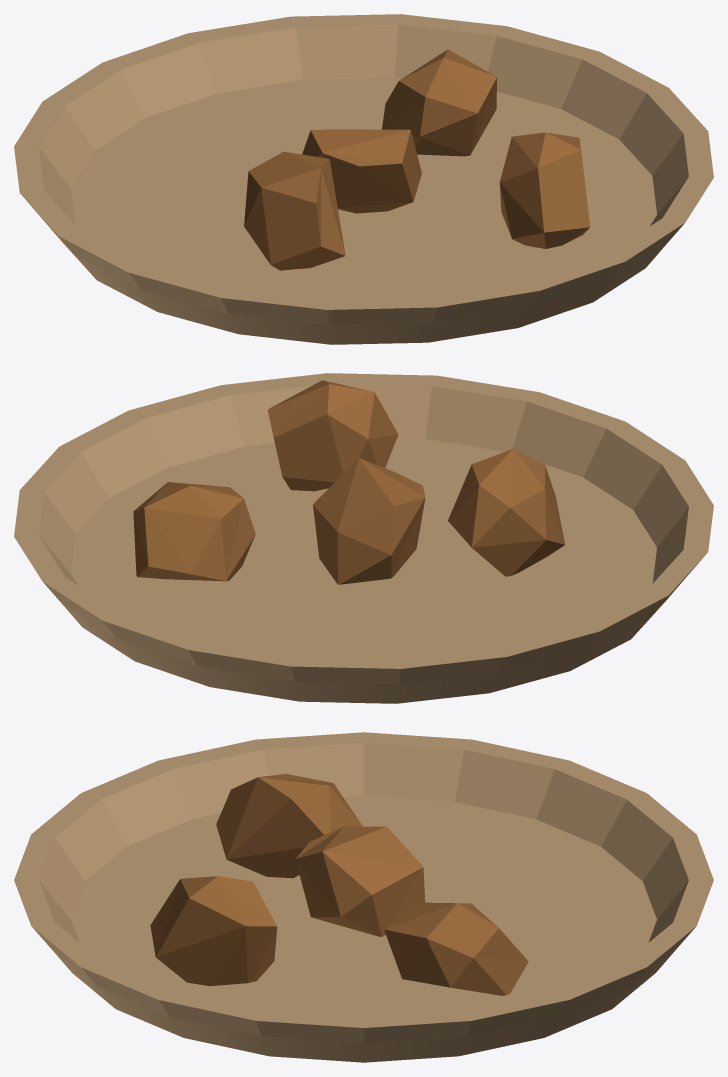
File: Vessel_4.fbx
The picture shows the model from 3 angles, top to bottom: view 1: azimuth 30°, elevation 25°; view 2: azimuth 150°, elevation 25°; view 3: azimuth 270°, elevation 25°; orthographic projection.
Visible parts, largest first — view 1: Saucer, CopperPieceBig2, CopperPieceBig4, CopperPieceBig3, CopperPieceBig1; view 2: Saucer, CopperPieceBig1, CopperPieceBig3, CopperPieceBig2, CopperPieceBig4; view 3: Saucer, CopperPieceBig4, CopperPieceBig1, CopperPieceBig2, CopperPieceBig3.
Part boxes in pixels (x1=…): Saucer: x1=14, y1=14, x2=713, y2=344; CopperPieceBig2: x1=244, y1=151, x2=345, y2=270; CopperPieceBig4: x1=499, y1=132, x2=590, y2=248; CopperPieceBig3: x1=382, y1=49, x2=496, y2=156; CopperPieceBig1: x1=302, y1=129, x2=421, y2=213; Saucer: x1=14, y1=373, x2=713, y2=703; CopperPieceBig1: x1=313, y1=458, x2=425, y2=584; CopperPieceBig3: x1=133, y1=482, x2=255, y2=581; CopperPieceBig2: x1=448, y1=449, x2=565, y2=576; CopperPieceBig4: x1=267, y1=380, x2=398, y2=491; Saucer: x1=14, y1=732, x2=713, y2=1062; CopperPieceBig4: x1=150, y1=876, x2=277, y2=986; CopperPieceBig1: x1=295, y1=826, x2=425, y2=936; CopperPieceBig2: x1=216, y1=774, x2=362, y2=878; CopperPieceBig3: x1=384, y1=902, x2=528, y2=995.
Size of the model in its own units: 21.13 by 3.65 by 21.13.
